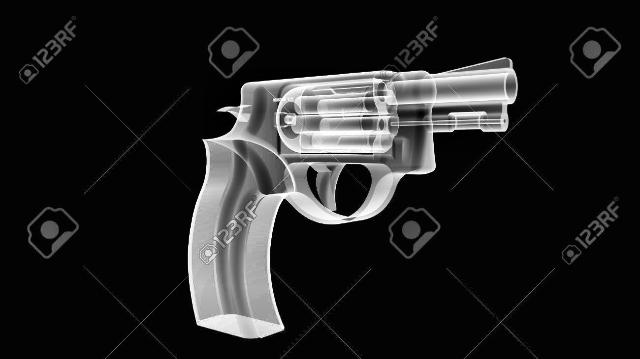pistol: (182, 53, 518, 338)
